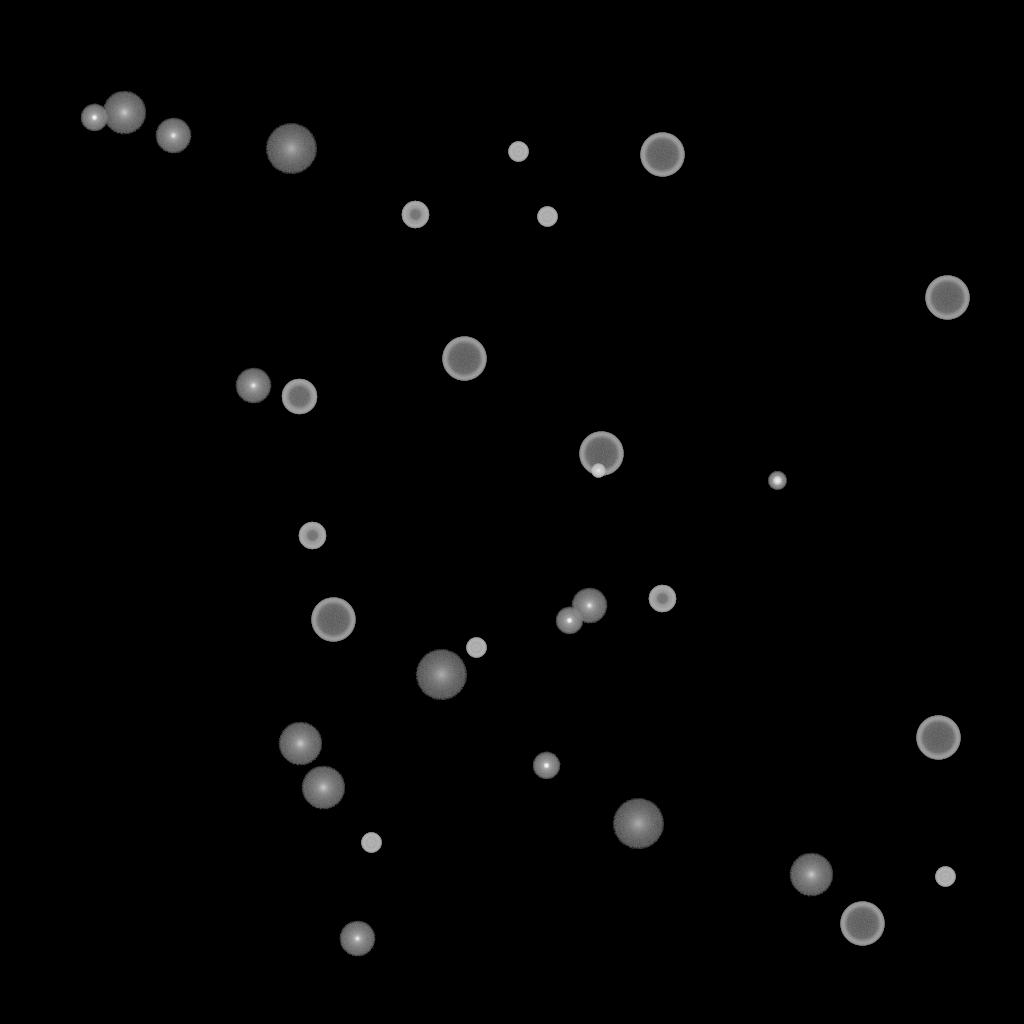depth:-10: (80, 104, 108, 132), (555, 607, 583, 635), (532, 752, 560, 780)
depth:-20: (768, 472, 786, 490)
depth:-30: (591, 464, 605, 478)
depth:-40: (508, 142, 528, 162), (537, 207, 557, 227), (361, 833, 381, 853), (935, 867, 955, 887), (466, 638, 486, 658)
depth:-50: (298, 522, 326, 550), (648, 585, 676, 613), (401, 201, 429, 229)
depth:-60: (281, 379, 317, 415)
depth:-70: (442, 337, 486, 381), (840, 902, 884, 946), (579, 432, 623, 476), (640, 133, 684, 177), (925, 276, 969, 320), (916, 716, 960, 760), (311, 598, 355, 642)
depth:0: (155, 118, 191, 154), (571, 588, 607, 624), (235, 368, 271, 404), (339, 921, 375, 957)
depth:10: (278, 722, 322, 766), (301, 766, 345, 810), (789, 853, 833, 897), (102, 91, 146, 135)
depth:20: (612, 799, 664, 849), (265, 124, 317, 174), (415, 650, 467, 700)
